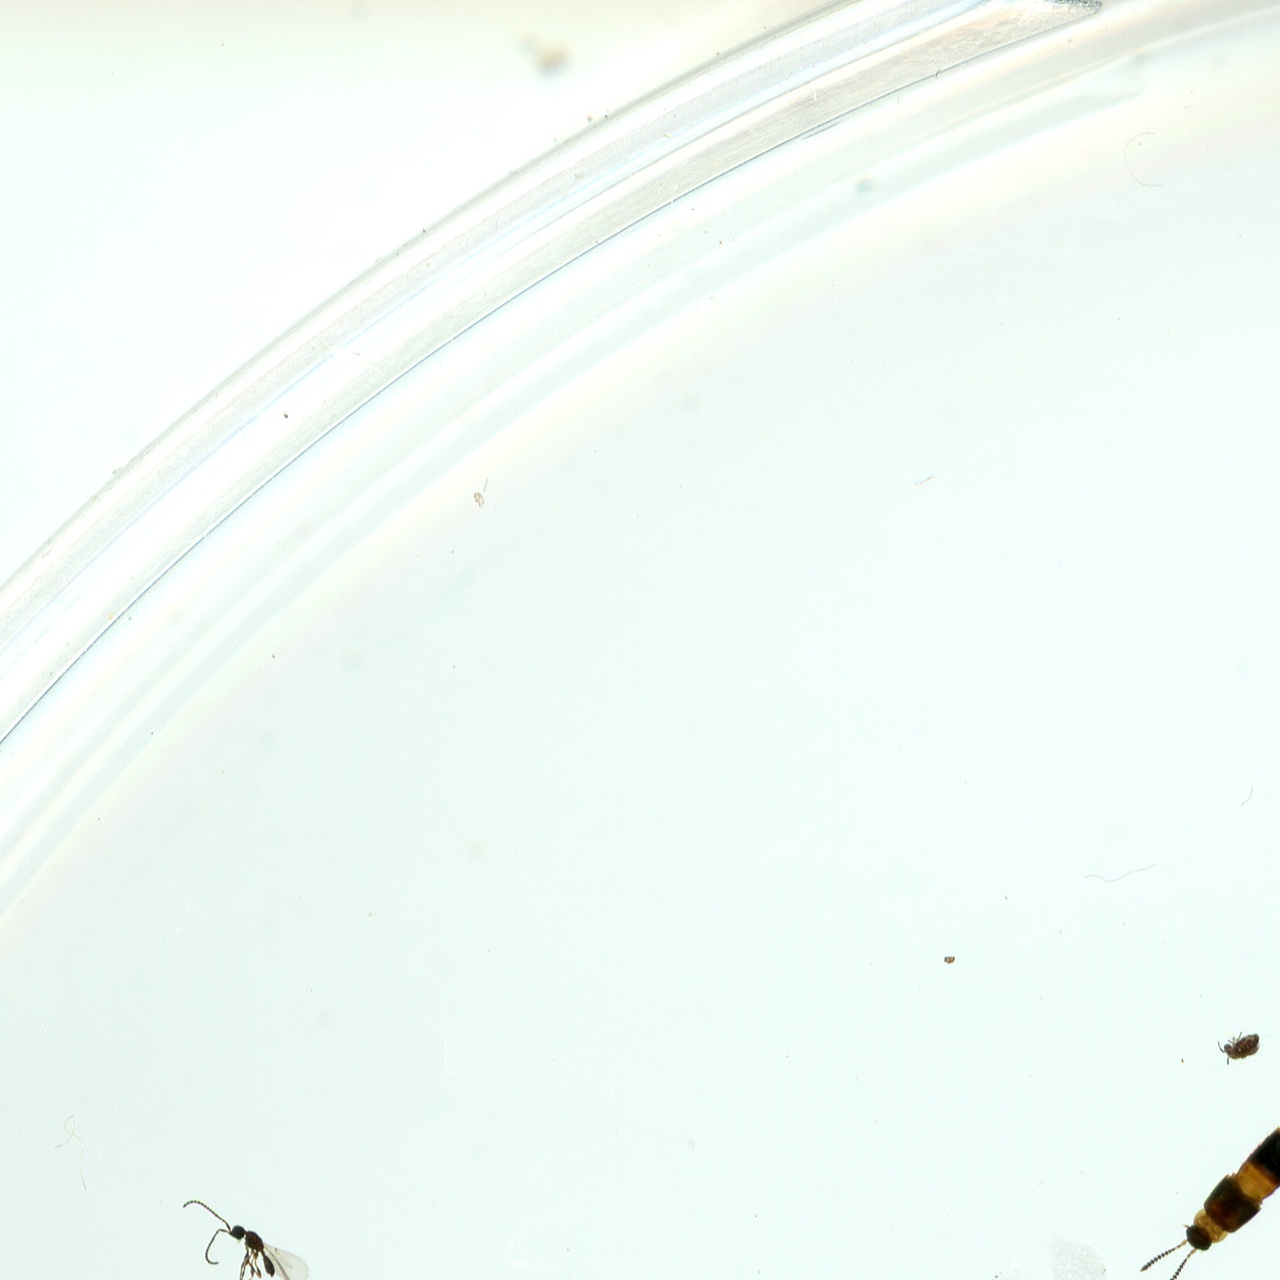arthropod: (1114, 1084, 1280, 1280), (165, 1188, 319, 1280), (1214, 1027, 1265, 1068)
